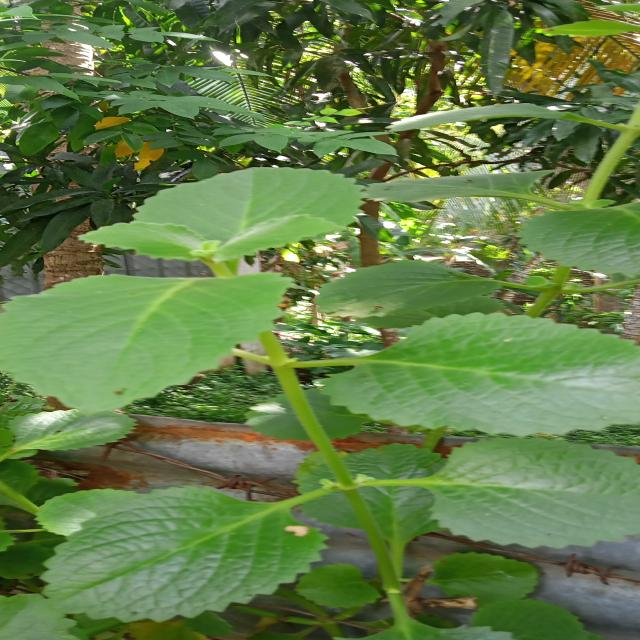Oregano: (0, 484, 375, 640), (5, 265, 322, 420), (298, 429, 640, 560), (306, 314, 636, 448), (87, 154, 390, 278), (398, 551, 599, 640), (298, 254, 548, 320), (346, 101, 640, 154), (503, 175, 640, 270), (367, 163, 575, 222)
